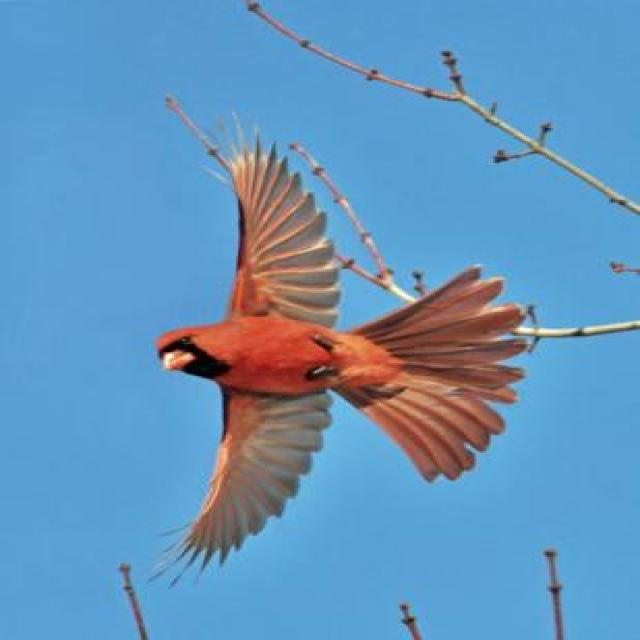birds: (142, 105, 542, 604)
